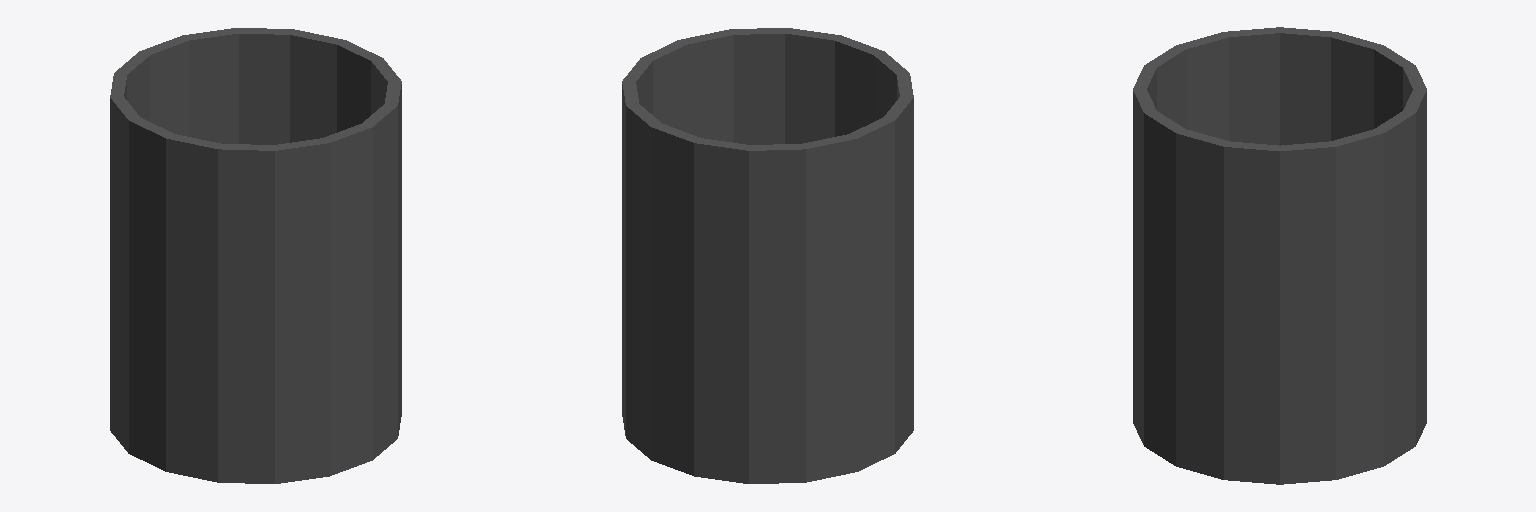
3 views of the same model, side by side, from view 1: azimuth 30°, elevation 25°; view 2: azimuth 150°, elevation 25°; view 3: azimuth 270°, elevation 25° (orthographic).
Visible parts, largest first — view 1: Cylinder1; view 2: Cylinder1; view 3: Cylinder1.
Boxes of the visible parts, <box> form: Cylinder1: <box>110,28,401,483</box>; Cylinder1: <box>622,28,913,483</box>; Cylinder1: <box>1133,27,1426,484</box>.
Size of the model in its own units: 1 by 1.25 by 1.
1 materials, 1 textured.